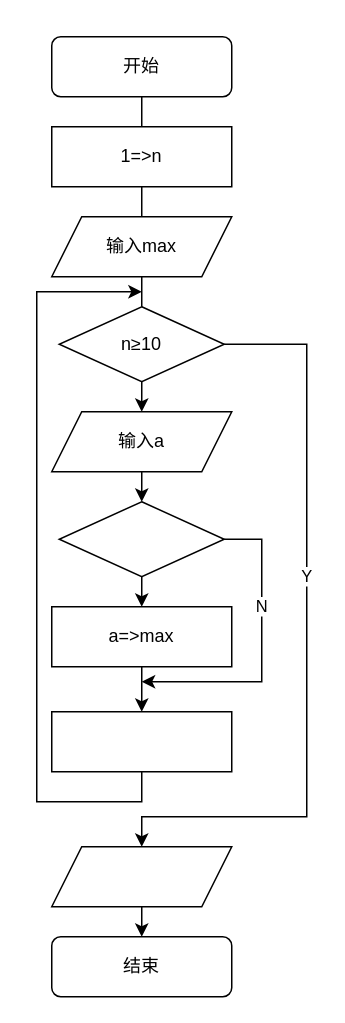
This 345x1023 diagram has some shape labels left out. The centre of each missing label's shape, as x and y in pixels:
"a>max" belongs at [141,538].
"n+1=n" belongs at [141,741].
"输出max" belongs at [141,876].
